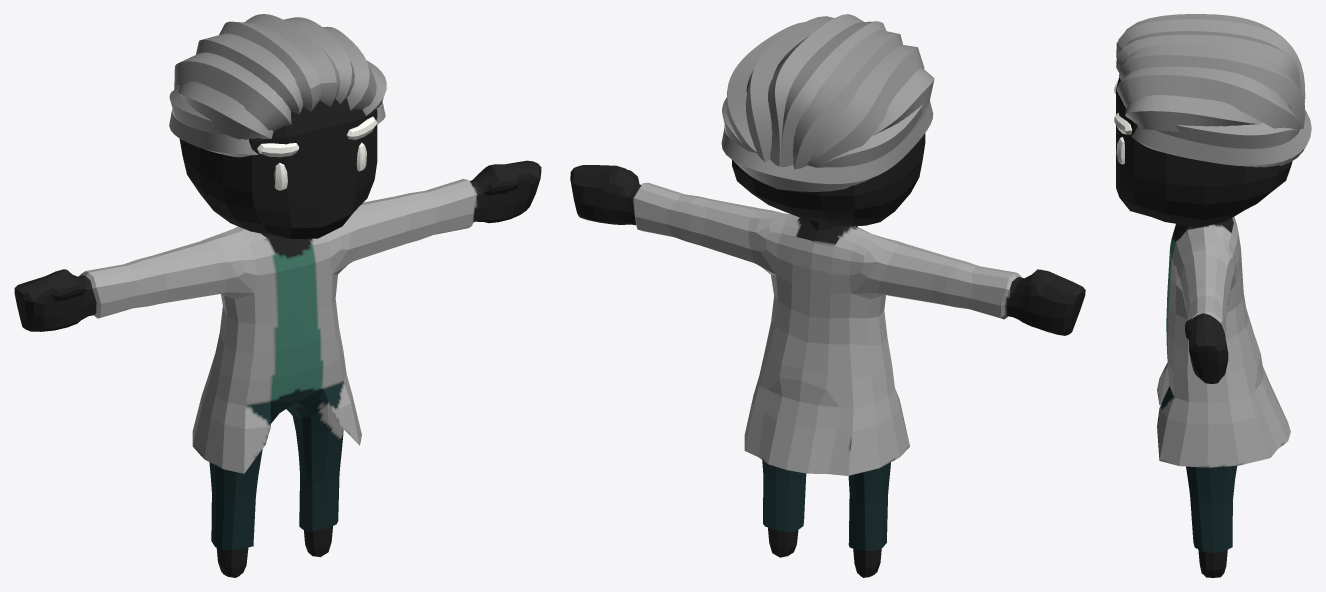
File: Doctor_Male_Old.fbx
3 renders of one model, left to right at view 1: azimuth 30°, elevation 25°; view 2: azimuth 150°, elevation 25°; view 3: azimuth 270°, elevation 25°, orthographic. The views are drawn at different scales.
Visible parts, largest first — view 1: Body; view 2: Body; view 3: Body.
Part boxes in pixels (<box>): Body: <box>14,14,541,577</box>; Body: <box>570,14,1085,577</box>; Body: <box>1114,14,1311,577</box>.
Bounding box in the file's own units: 324 × 320 × 108.
Materials: 1 (1 with a texture image).
